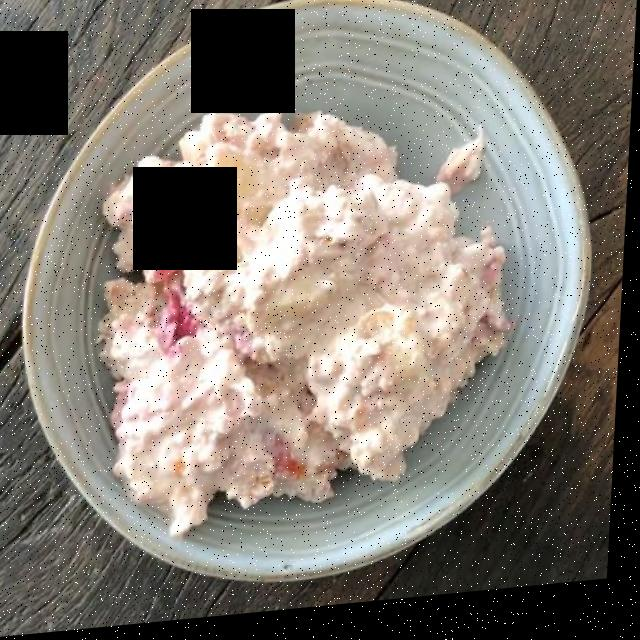birchermuesli-prepared-no-sugar-added: (107, 119, 508, 522)
